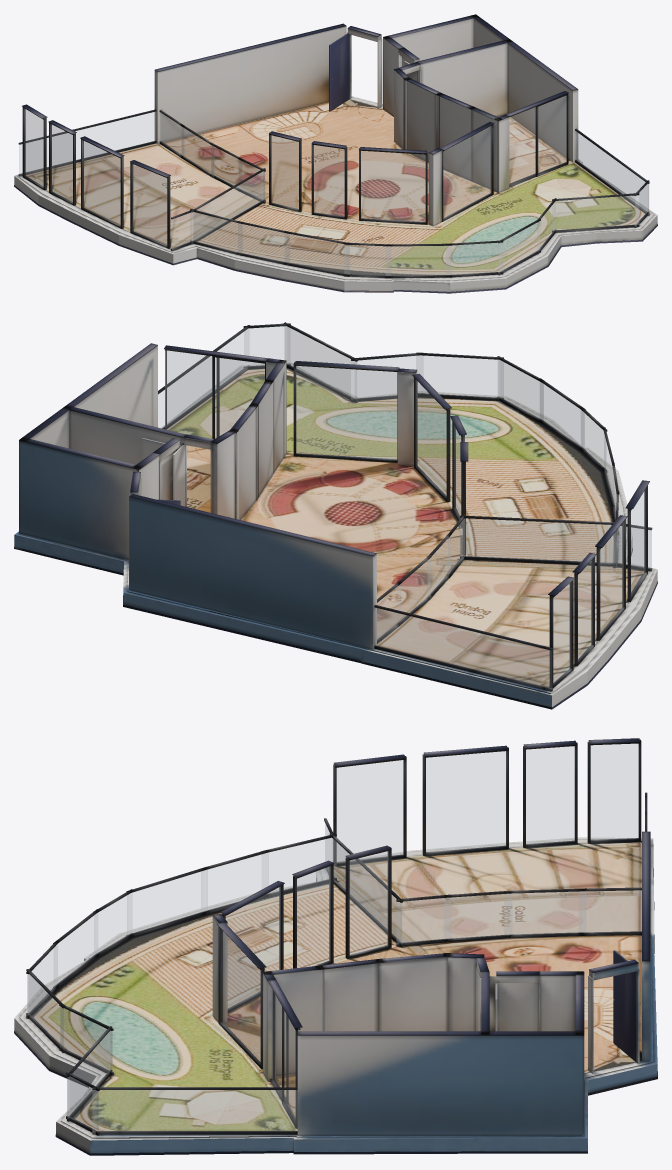
3 renders of one model, top to bottom at view 1: azimuth 30°, elevation 25°; view 2: azimuth 150°, elevation 25°; view 3: azimuth 270°, elevation 25°, orthographic. The views are drawn at different scales.
Parts seen in each view (by area): view 1: plan, glass4_m, glass1_m, railg11_m, glass0_m, glass7_m, railg2_m, glass8_m, glass3_m, railg16_m, railg0_m, railg6_m (+15 smaller); view 2: plan, glass0_m, railg11_m, glass1_m, railg16_m, railg4_m, railg0_m, glass4_m, railg2_m, glass7_m, railg3_m, railg5_m (+11 smaller); view 3: plan, railg0_m, glass7_m, glass8_m, glass6_m, glass5_m, glass4_m, glass0_m, glass2_m, railg13_m, railg8_m, glass3_m (+14 smaller).
Part boxes in pixels (x1,y1,x2,y2): plan: (14, 14, 657, 293); glass4_m: (361, 151, 425, 222); glass1_m: (509, 96, 566, 184); railg11_m: (19, 112, 155, 173); glass0_m: (443, 126, 491, 218); glass7_m: (83, 141, 120, 225); railg2_m: (553, 195, 638, 230); glass8_m: (132, 164, 166, 245); glass3_m: (314, 145, 344, 216); railg16_m: (191, 171, 264, 241); railg0_m: (576, 131, 648, 213); railg6_m: (386, 246, 451, 275); plan: (14, 322, 657, 709); glass0_m: (296, 366, 396, 459); railg11_m: (375, 608, 551, 688); glass1_m: (165, 350, 264, 438); railg16_m: (460, 518, 613, 562); railg4_m: (416, 355, 503, 397); railg0_m: (158, 329, 248, 428); glass4_m: (416, 380, 446, 496); railg2_m: (285, 326, 356, 399); glass7_m: (600, 522, 623, 634); railg3_m: (351, 355, 422, 398); railg5_m: (498, 360, 543, 420); plan: (14, 738, 657, 1155); railg0_m: (92, 1090, 297, 1131); glass7_m: (426, 751, 505, 852); glass8_m: (337, 760, 403, 862); glass6_m: (526, 746, 574, 844); glass5_m: (591, 744, 638, 840); glass4_m: (226, 887, 280, 1008); glass0_m: (221, 930, 260, 1062); glass2_m: (350, 851, 388, 955); railg13_m: (504, 891, 586, 934); railg8_m: (127, 870, 207, 934); glass3_m: (297, 866, 330, 967).
Bounding box in the file's own units: 14.57 × 2.62 × 13.07.
Materials: 2 (1 with a texture image).
